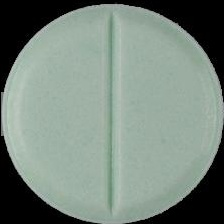55289-582: (0, 0, 224, 224)
